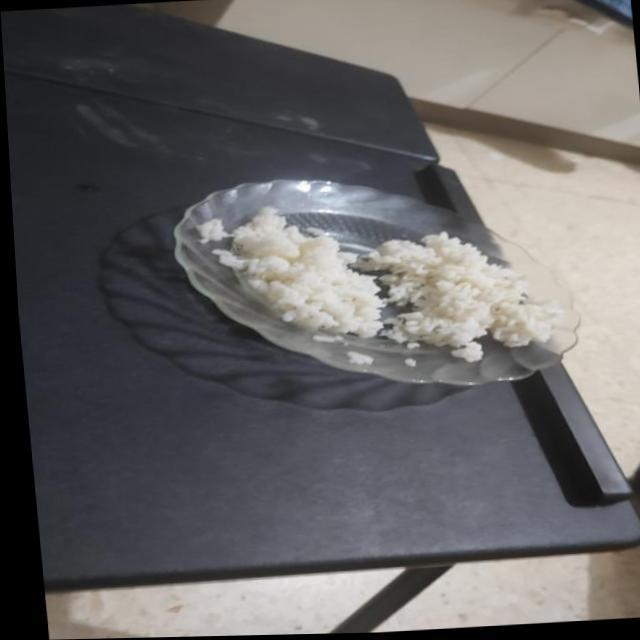nasi_putih: (353, 231, 563, 362), (196, 206, 386, 338)
